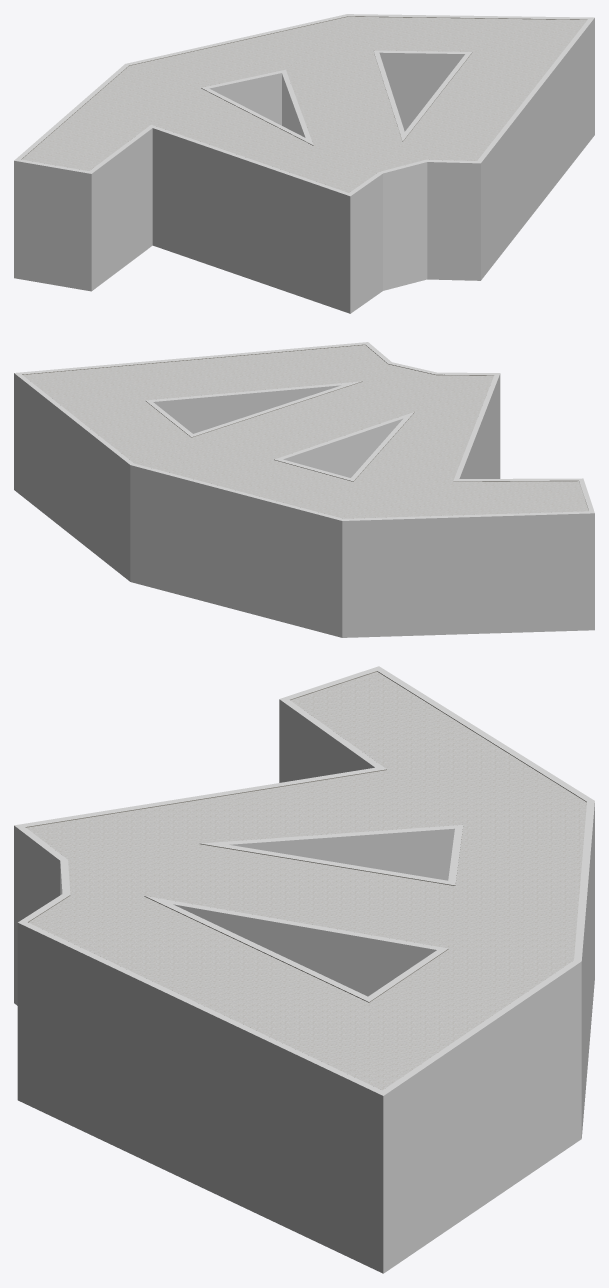
Rendered from art gallery room.glb.
3 renders of one model, top to bottom at view 1: azimuth 30°, elevation 25°; view 2: azimuth 150°, elevation 25°; view 3: azimuth 270°, elevation 25°, orthographic. The views are drawn at different scales.
Parts seen in each view (by area): view 1: room, room ceilling; view 2: room, room ceilling; view 3: room, room ceilling.
Part boxes in pixels (bbox=[...]): room: bbox=[14, 14, 594, 313]; room ceilling: bbox=[22, 16, 587, 192]; room: bbox=[14, 342, 594, 637]; room ceilling: bbox=[23, 345, 588, 518]; room: bbox=[14, 666, 594, 1273]; room ceilling: bbox=[26, 671, 586, 1090].
Size of the model in its own units: 291 by 56.1 by 166.
5 materials, 3 textured.
